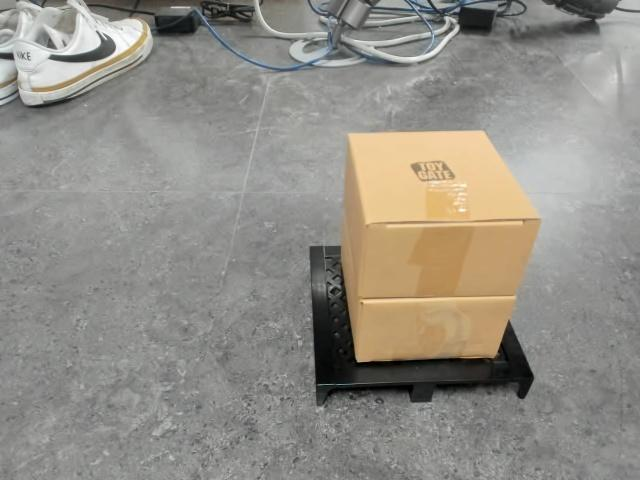box: (309, 128, 542, 407)
